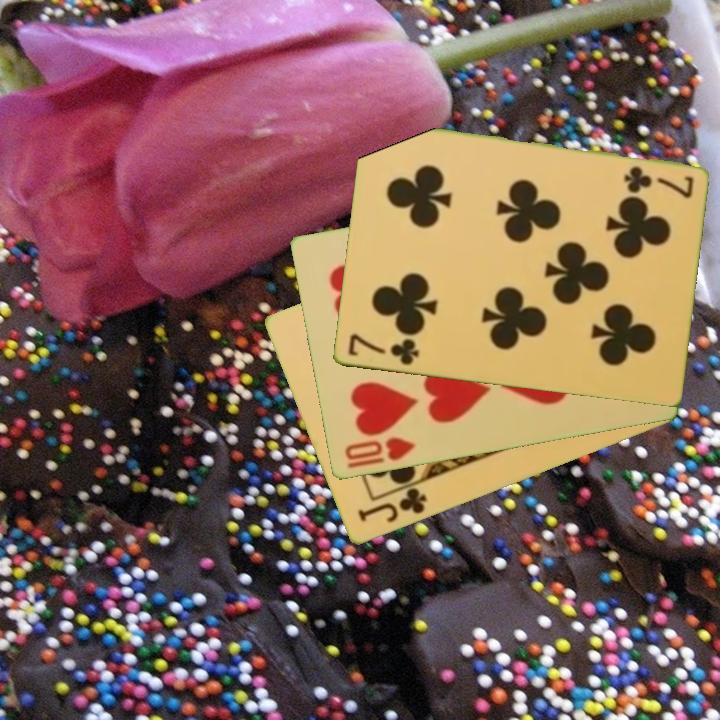10h: (340, 434, 418, 464)
7c: (344, 331, 422, 369), (620, 163, 696, 198)
Jc: (354, 484, 430, 526)
